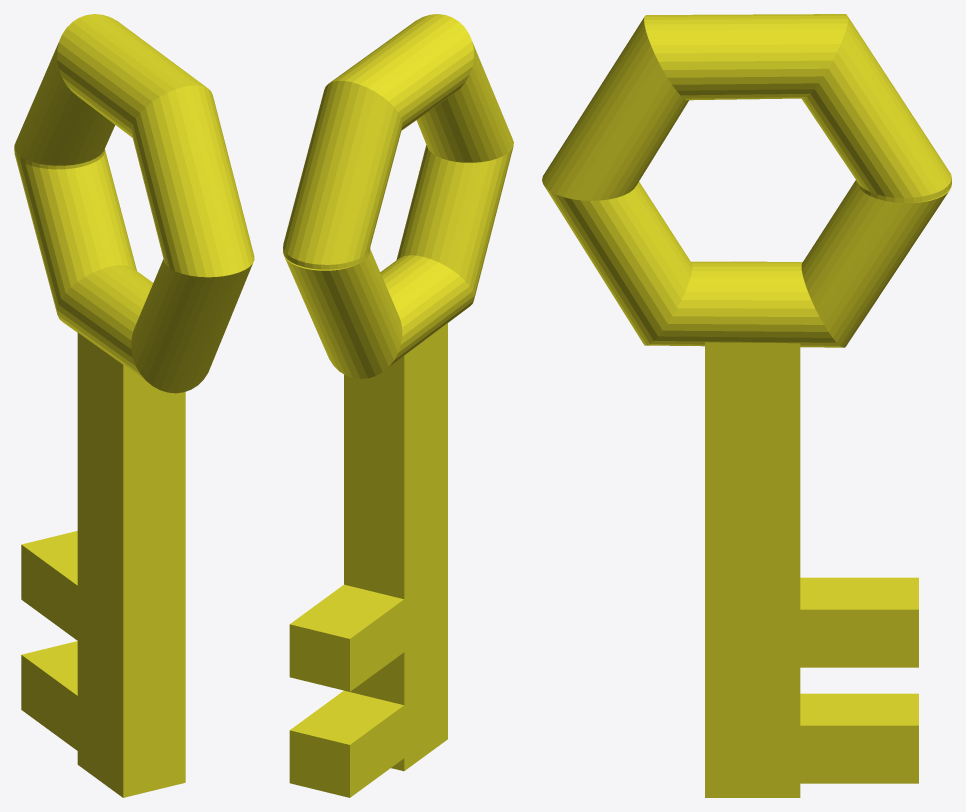
Rendered from key.fbx.
3 views of the same model, side by side, from view 1: azimuth 30°, elevation 25°; view 2: azimuth 150°, elevation 25°; view 3: azimuth 270°, elevation 25° (orthographic). The views are drawn at different scales.
Parts seen in each view (by area): view 1: KeyHead, KeyTeeth; view 2: KeyHead, KeyTeeth; view 3: KeyHead, KeyTeeth.
Part boxes in pixels (bbox=[...]): KeyHead: bbox=[14, 14, 254, 393]; KeyTeeth: bbox=[21, 332, 185, 797]; KeyHead: bbox=[283, 14, 513, 378]; KeyTeeth: bbox=[289, 323, 447, 797]; KeyHead: bbox=[542, 14, 951, 347]; KeyTeeth: bbox=[705, 342, 918, 797].
Size of the model in its own units: 200 by 1763 by 859.
